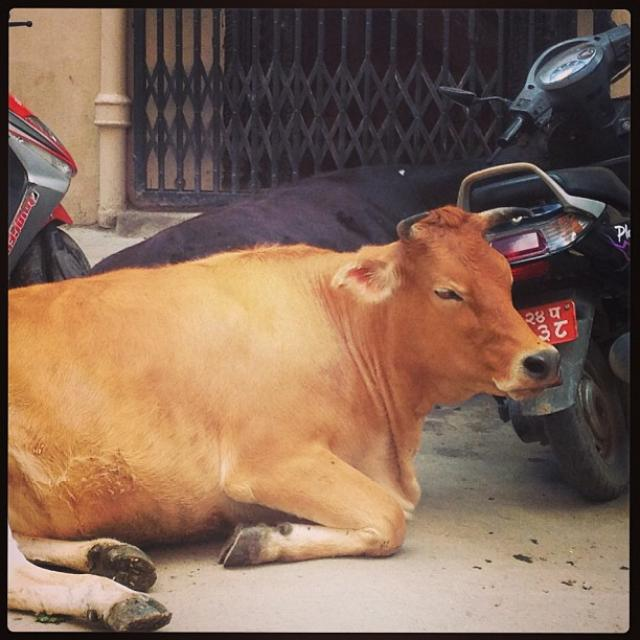motor: (427, 22, 637, 512), (10, 20, 88, 283)
